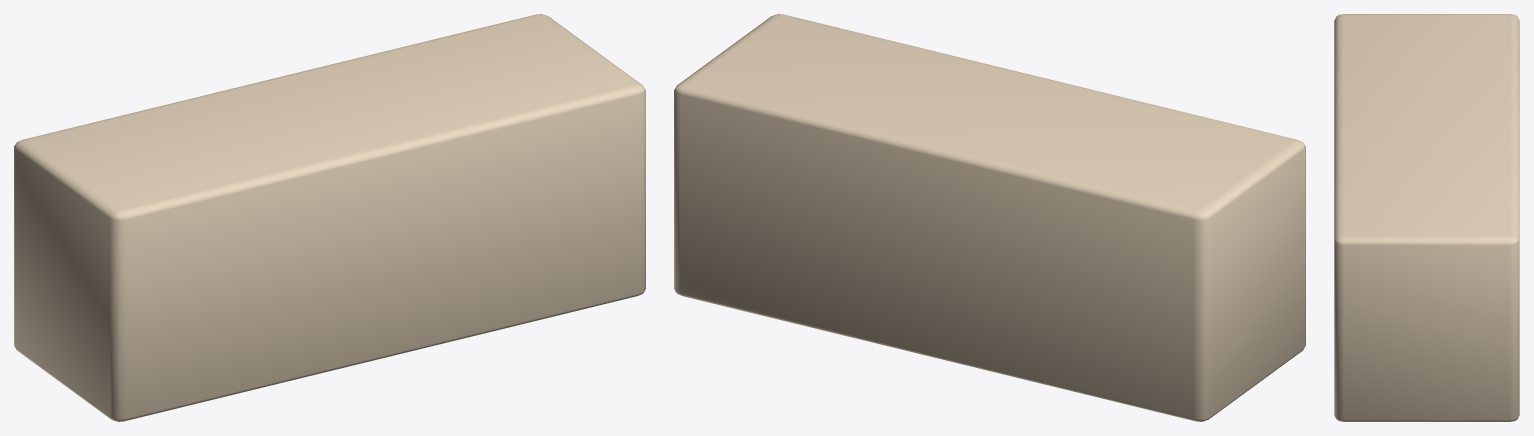
Rendered from Cabinet_1.fbx.
The picture shows the model from 3 angles, left to right: view 1: azimuth 30°, elevation 25°; view 2: azimuth 150°, elevation 25°; view 3: azimuth 270°, elevation 25°; orthographic projection. The views are drawn at different scales.
Visible parts, largest first — view 1: Cabinet_1; view 2: Cabinet_1; view 3: Cabinet_1.
Part boxes in pixels (x1=…): Cabinet_1: x1=14, y1=14, x2=645, y2=421; Cabinet_1: x1=674, y1=14, x2=1305, y2=421; Cabinet_1: x1=1334, y1=14, x2=1519, y2=421.
Bounding box in the file's own units: 179 × 67.24 × 61.19.
